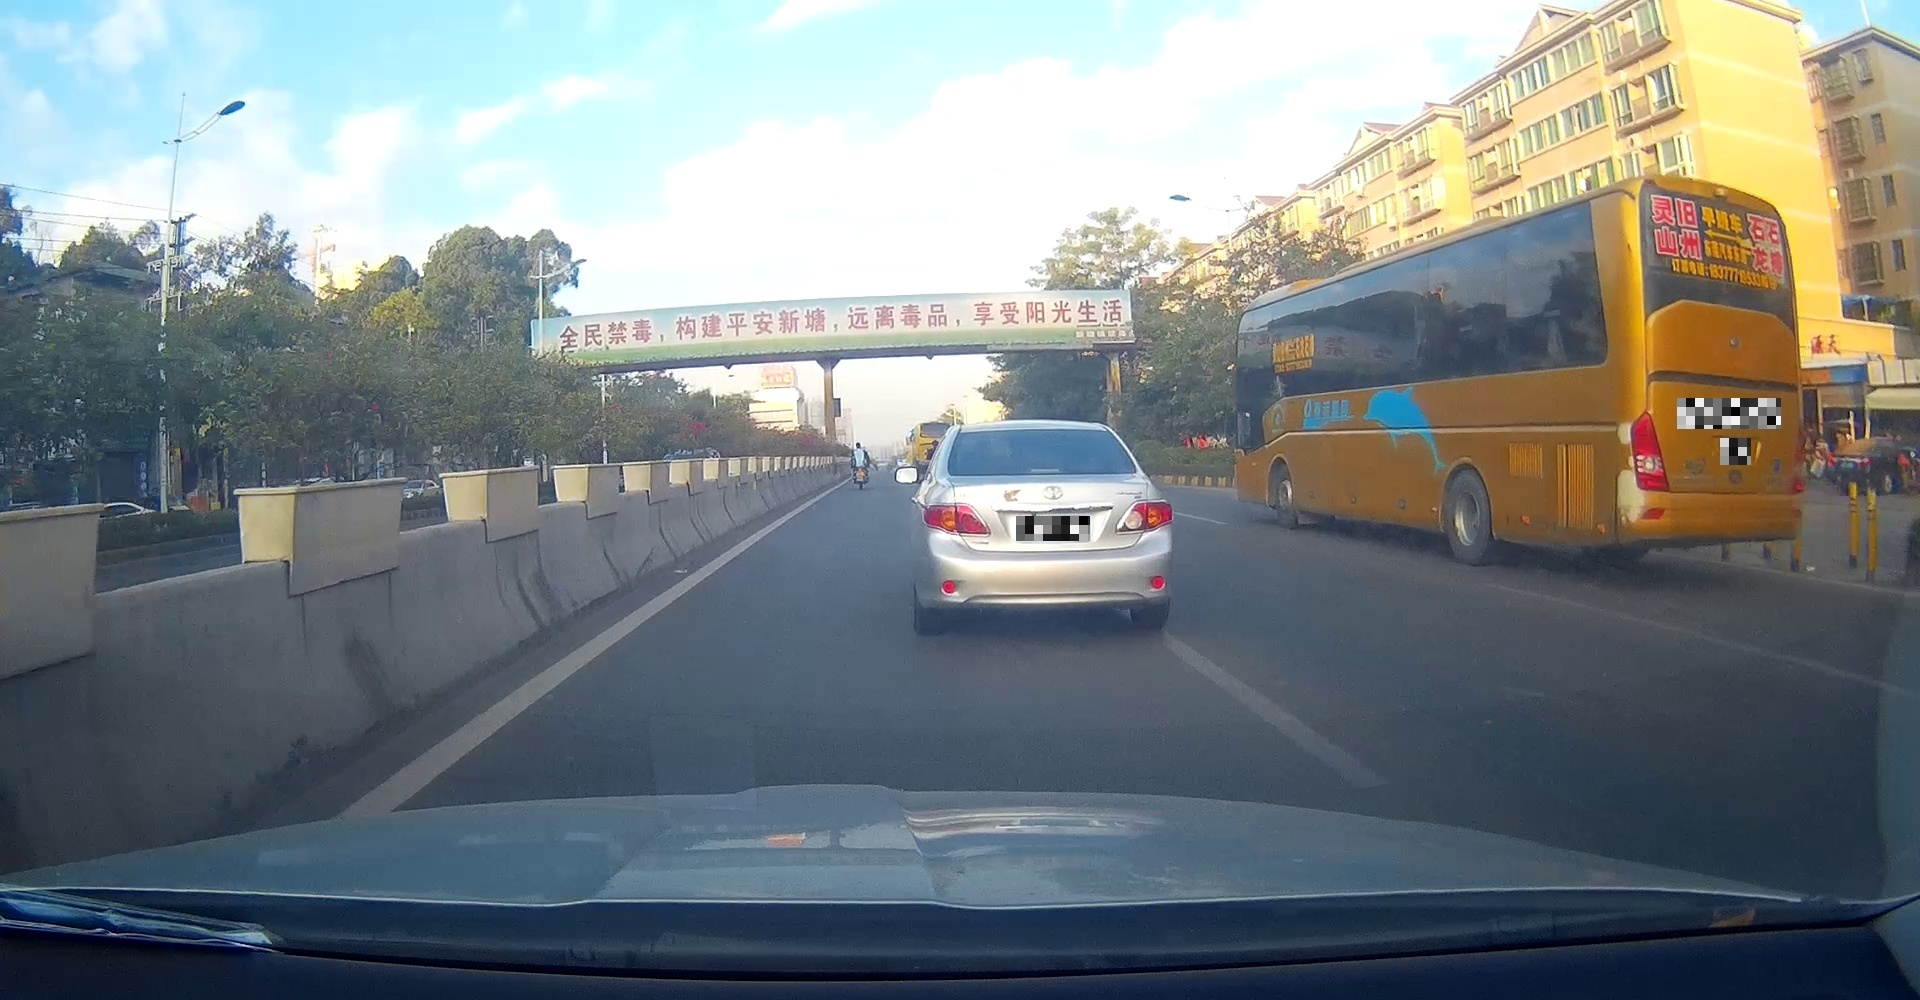L_light: (1627, 409, 1670, 492), (921, 503, 990, 539)
R_light: (1114, 499, 1175, 536), (1788, 421, 1807, 495)
T_light: (1710, 291, 1768, 312), (1026, 430, 1059, 442)
day-no: (1625, 176, 1808, 569), (919, 419, 1175, 637)
plate_1: (1016, 516, 1090, 541)
plate_2: (1677, 398, 1782, 429)
plate_3: (1719, 438, 1751, 464)
